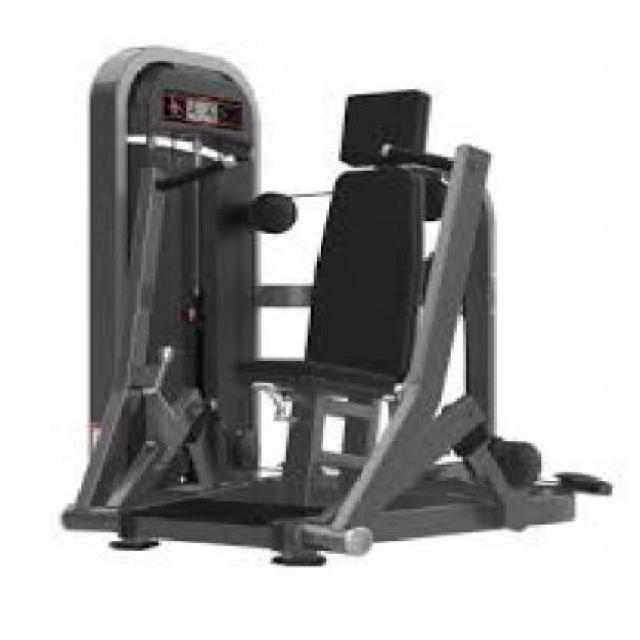Chest Press machine: (52, 26, 620, 582)
